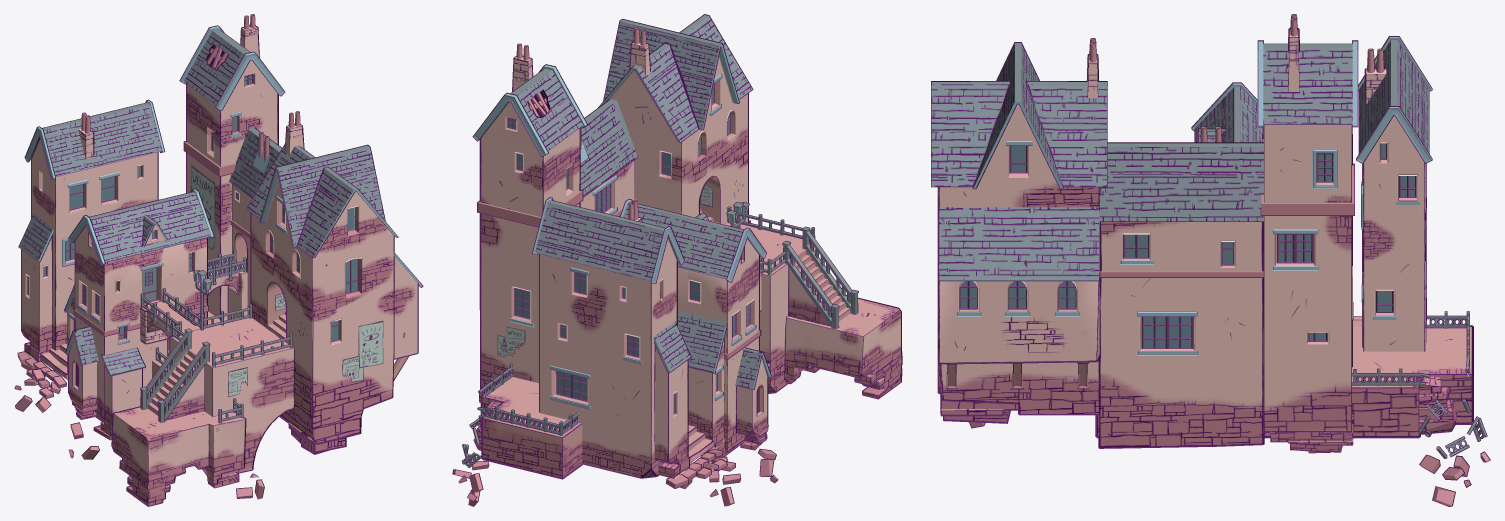
Rendered from Town.glb.
The picture shows the model from 3 angles, left to right: view 1: azimuth 30°, elevation 25°; view 2: azimuth 150°, elevation 25°; view 3: azimuth 270°, elevation 25°; orthographic projection. The views are drawn at different scales.
Parts seen in each view (by area): view 1: Roof.001_30, Base.003_11, Base.007_15, Base.006_14, Base.001_9, Base.002_10, Base.005_13, Deco_8, Deco.001_17, Windows_and_doors_2, Bridge.001_16, Stones_1 (+13 smaller); view 2: Roof.001_30, Base.006_14, Base.005_13, Base.003_11, Base.007_15, Base.001_9, Platform_21, Base.002_10, Deco.001_17, Windows_and_doors_2, Deco_8, Stones_1 (+10 smaller); view 3: Roof.001_30, Base.004_12, Base.003_11, Base.005_13, Base.006_14, Platform_21, Windows_and_doors_2, Deco_wind_4, Deco_8, Deco_wind.001_29, Pipes.001_7, ground.001_20 (+5 smaller).
Boxes of the visible parts, x1,y1,x2,y2 form: Roof.001_30: (18,25,423,376); Base.003_11: (250,178,418,429); Base.007_15: (67,226,207,430); Base.006_14: (21,137,158,361); Base.001_9: (111,406,246,506); Base.002_10: (169,317,293,475); Base.005_13: (186,60,278,319); Deco_8: (140,250,292,423); Deco.001_17: (140,328,210,422); Windows_and_doors_2: (27,75,358,342); Bridge.001_16: (140,263,247,344); Stones_1: (14,351,264,499); Roof.001_30: (472,14,771,389); Base.006_14: (539,238,689,478); Base.005_13: (479,102,580,389); Base.003_11: (608,55,748,224); Base.007_15: (678,239,768,452); Base.001_9: (784,295,902,399); Platform_21: (480,377,582,479); Base.002_10: (724,222,815,393); Deco.001_17: (782,226,858,328); Windows_and_doors_2: (507,83,750,414); Deco_8: (462,202,815,467); Stones_1: (452,448,778,506); Roof.001_30: (931,36,1432,281); Base.004_12: (1098,222,1264,448); Base.003_11: (937,105,1100,415); Base.005_13: (1262,125,1352,432); Base.006_14: (1362,115,1426,351); Platform_21: (1095,319,1473,438); Windows_and_doors_2: (959,143,1416,348); Deco_wind_4: (956,134,1426,355); Deco_8: (1352,311,1487,458); Deco_wind.001_29: (1099,163,1354,277); Pipes.001_7: (1086,28,1386,105); ground.001_20: (1419,376,1456,434).
Bounding box in the file's own units: 1.72 × 2.34 × 2.38.
Materials: 32 (22 with a texture image).
